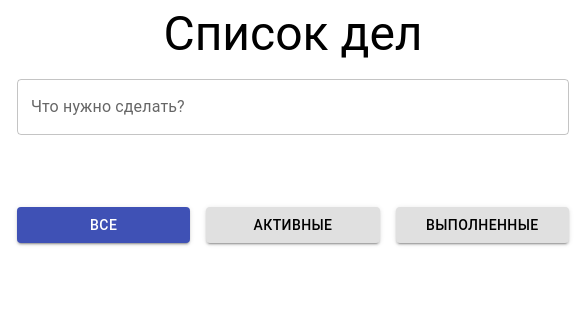
Test: Todo App › can filter todos by active and completed
Type "Активная задача" into the field labelled "Что нужно сделать?".
click(293, 107); type("Активная задача")  # box [17,79,569,135]
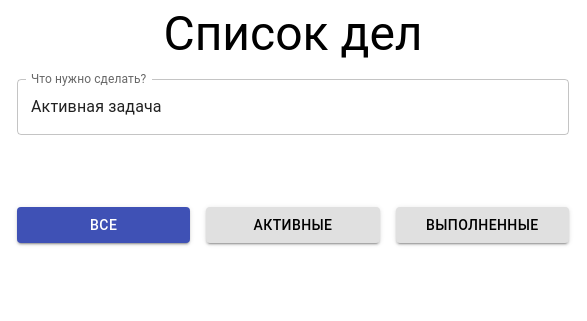
Submit the form from the field labelled "Что нужно сделать?", box [17,79,569,135]
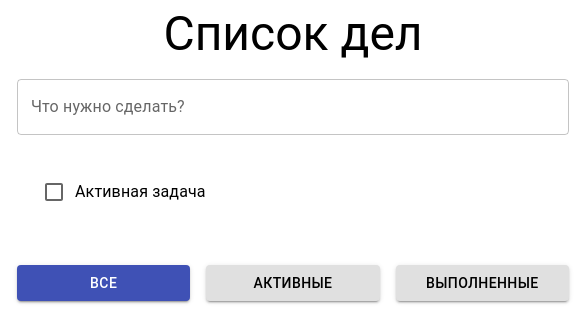
Click the checkbox.
click(54, 192)  # box [42,180,66,204]
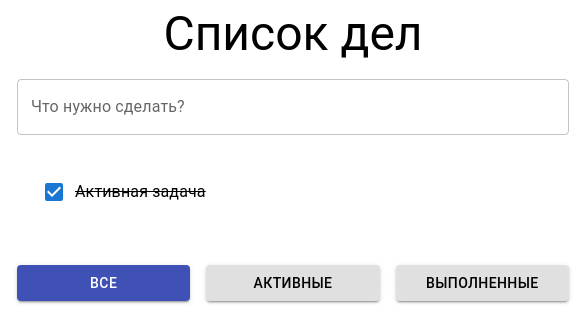
Click the button "Активные".
click(293, 283)  # box [206,265,380,301]
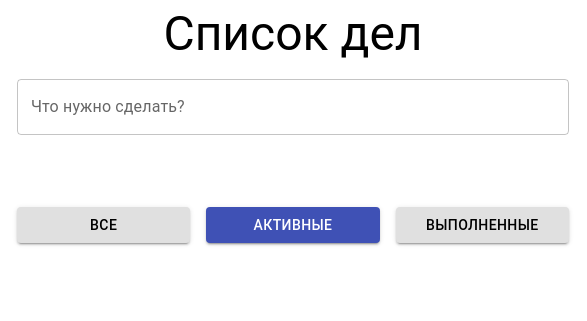
Result: the text "Активная задача" is gone
Click the button "Выполненные".
click(482, 225)  # box [396,207,569,243]
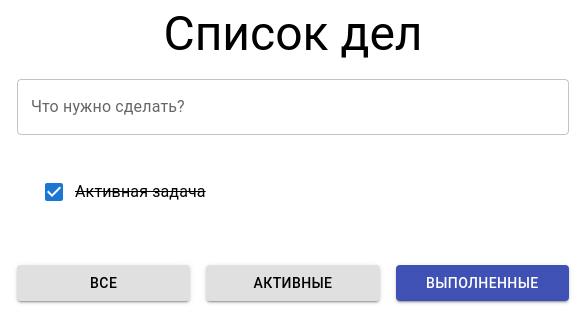
Result: the text "Активная задача" is shown at [75,182,206,201]
